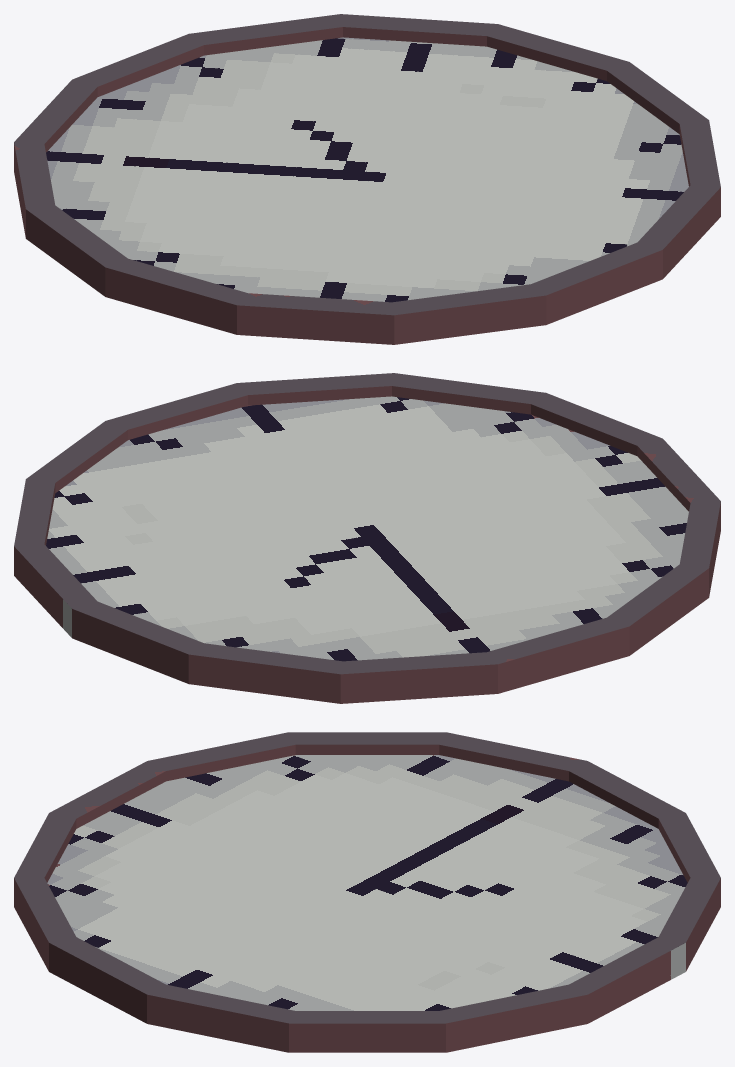
File: Clock.fbx
3 renders of one model, top to bottom at view 1: azimuth 30°, elevation 25°; view 2: azimuth 150°, elevation 25°; view 3: azimuth 270°, elevation 25°, orthographic.
Visible parts, largest first — view 1: Cylinder; view 2: Cylinder; view 3: Cylinder.
Boxes of the visible parts, box(x1,y1,x2,y2) form: Cylinder: box(14, 14, 720, 344); Cylinder: box(14, 373, 720, 703); Cylinder: box(14, 732, 720, 1052).
Size of the model in its own units: 195 by 9.15 by 200.
1 material, 1 textured.
